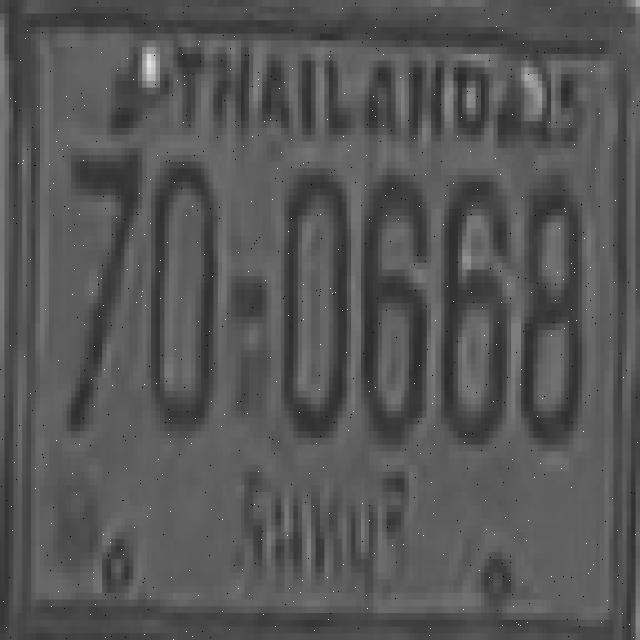0: (147, 154, 213, 424), (280, 162, 346, 432)
6: (436, 168, 506, 438), (358, 168, 424, 438)
7: (62, 148, 138, 424)
8: (518, 175, 580, 438)
Chanthaburi: (221, 456, 425, 619)
